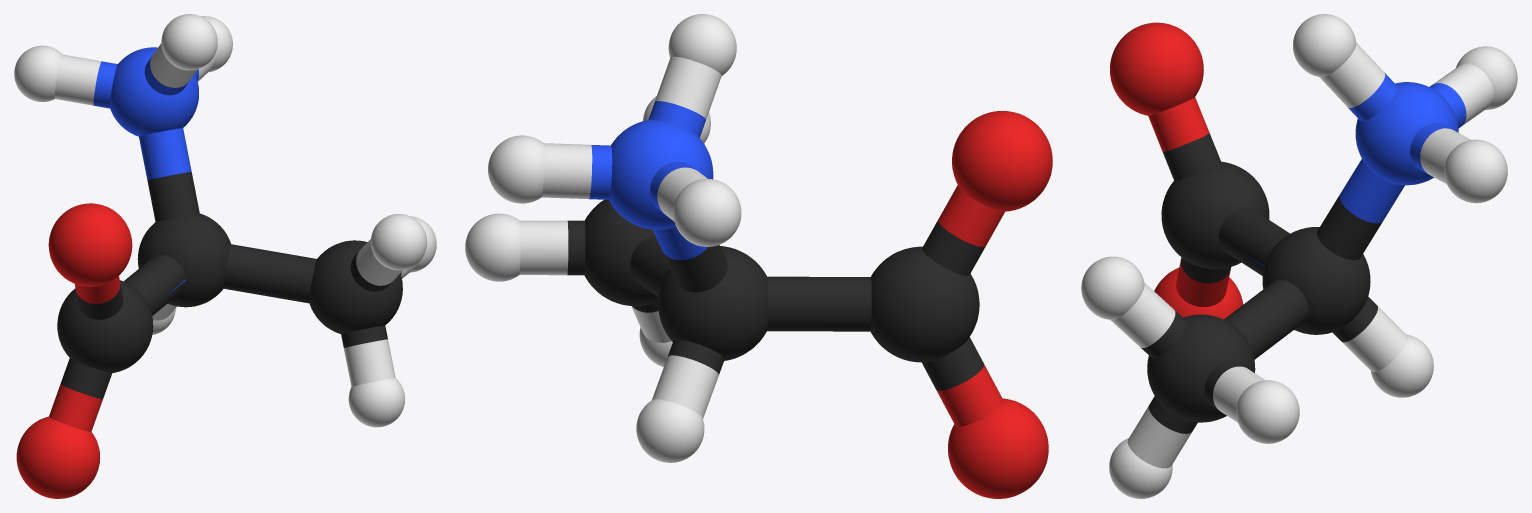
Rendered from objAfinal.obj.
The picture shows the model from 3 angles, left to right: view 1: azimuth 30°, elevation 25°; view 2: azimuth 150°, elevation 25°; view 3: azimuth 270°, elevation 25°; orthographic projection. The views are drawn at different scales.
Visible parts, largest first — view 1: objetA.pdb_atoms_ID12, objetA.pdb_bonds_ID21; view 2: objetA.pdb_atoms_ID12, objetA.pdb_bonds_ID21; view 3: objetA.pdb_atoms_ID12, objetA.pdb_bonds_ID21.
Part boxes in pixels (<box>): objetA.pdb_atoms_ID12: <box>14,14,436,498</box>; objetA.pdb_bonds_ID21: <box>49,43,418,431</box>; objetA.pdb_atoms_ID12: <box>465,14,1052,498</box>; objetA.pdb_bonds_ID21: <box>519,56,1004,426</box>; objetA.pdb_atoms_ID12: <box>1081,14,1517,498</box>; objetA.pdb_bonds_ID21: <box>1110,43,1493,468</box>.
Bounding box in the file's own units: 0.0452 × 0.0382 × 0.0343.
